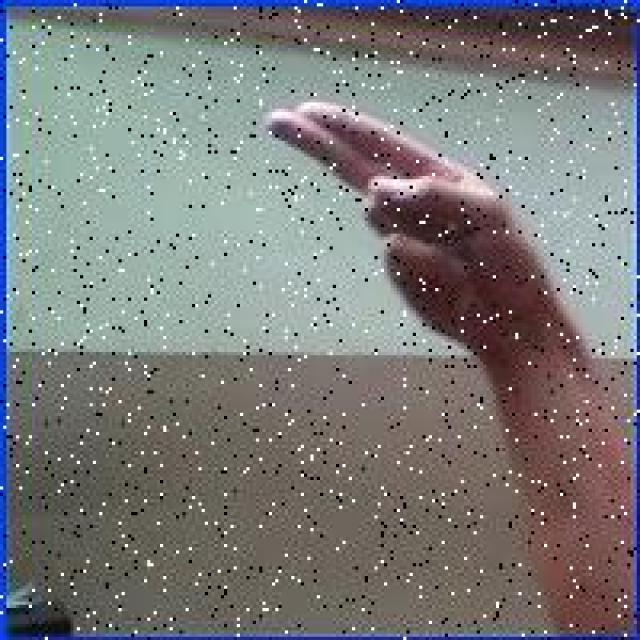H: (257, 91, 558, 360)
